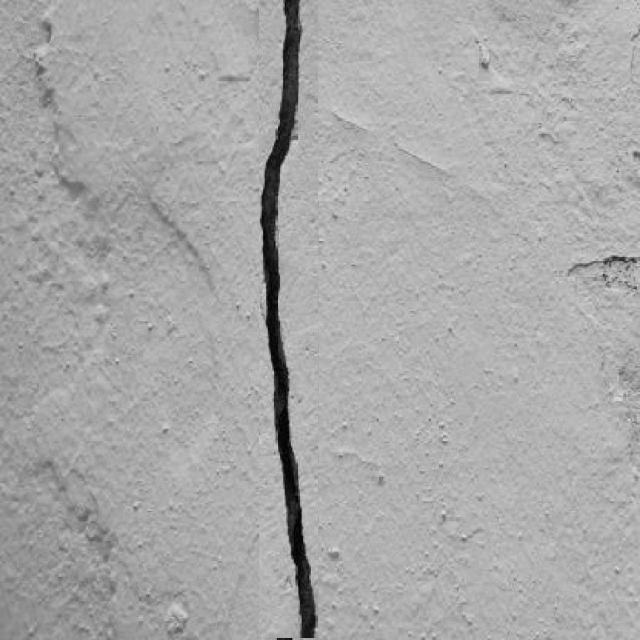vertical crack: (259, 1, 318, 636)
